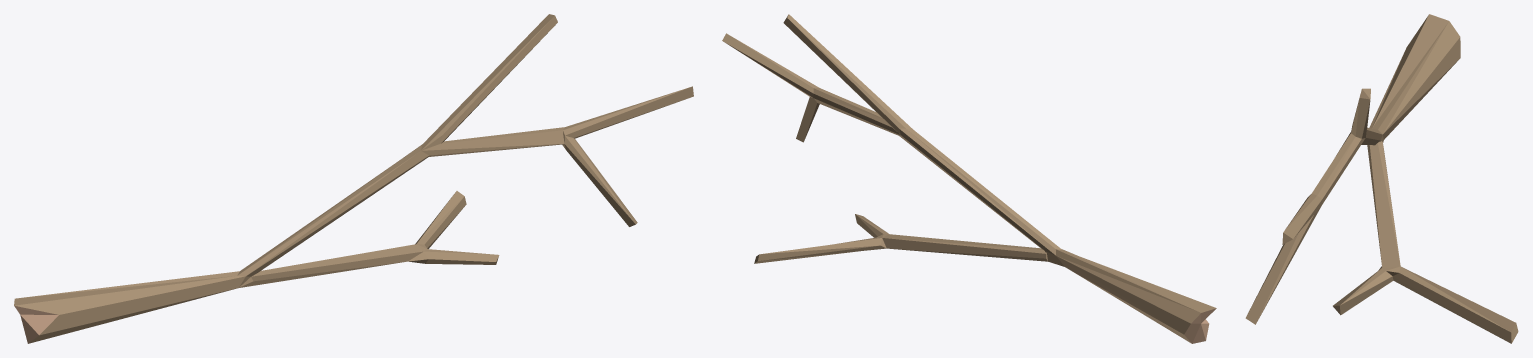
File: trunk4.fbx
3 renders of one model, left to right at view 1: azimuth 30°, elevation 25°; view 2: azimuth 150°, elevation 25°; view 3: azimuth 270°, elevation 25°, orthographic. The views are drawn at different scales.
Visible parts, largest first — view 1: trunk4; view 2: trunk4; view 3: trunk4.
Part boxes in pixels (box(x1,y1,x2,y2)): trunk4: box(14, 14, 693, 343); trunk4: box(722, 14, 1216, 343); trunk4: box(1245, 14, 1518, 343).
Size of the model in its own units: 178 by 63.23 by 58.08.
